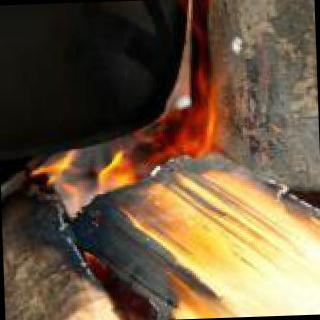fire: (35, 71, 251, 202)
